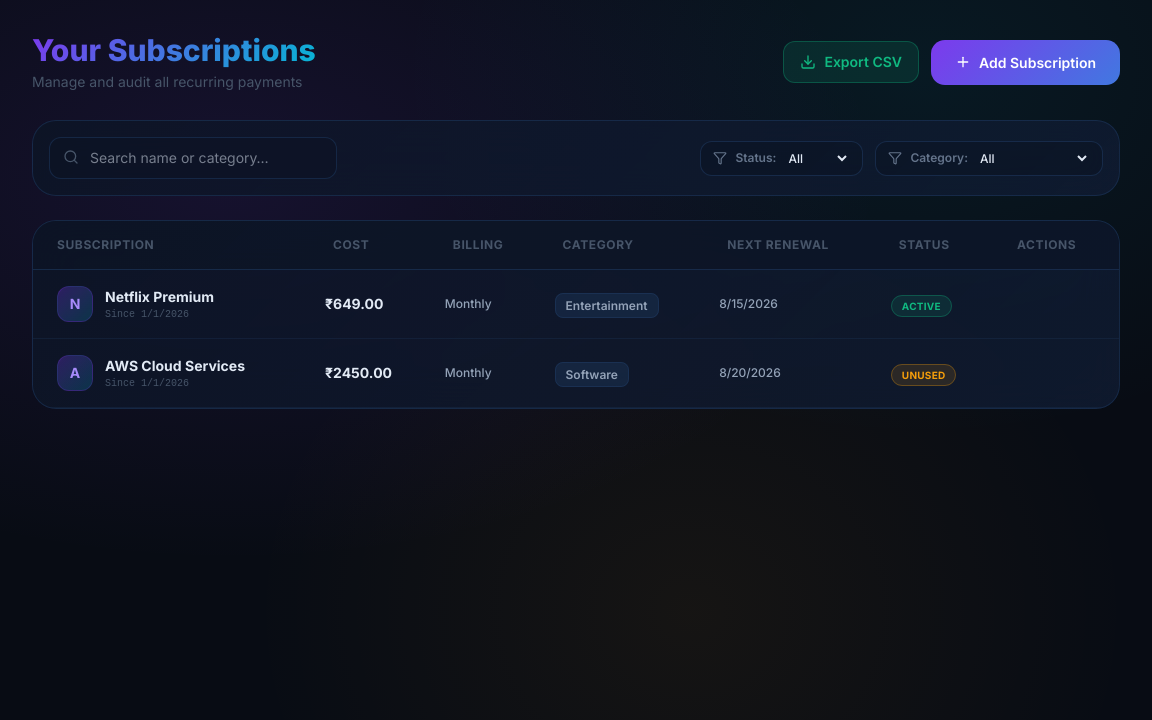
Subscriptions Page › filters subscriptions by status dropdown
Expected: the text "Netflix Premium" is shown, [105,286,214,306]
Step 1. Select "Unused" in the 1st dropdown → (817, 158), box [784,150,850,166]
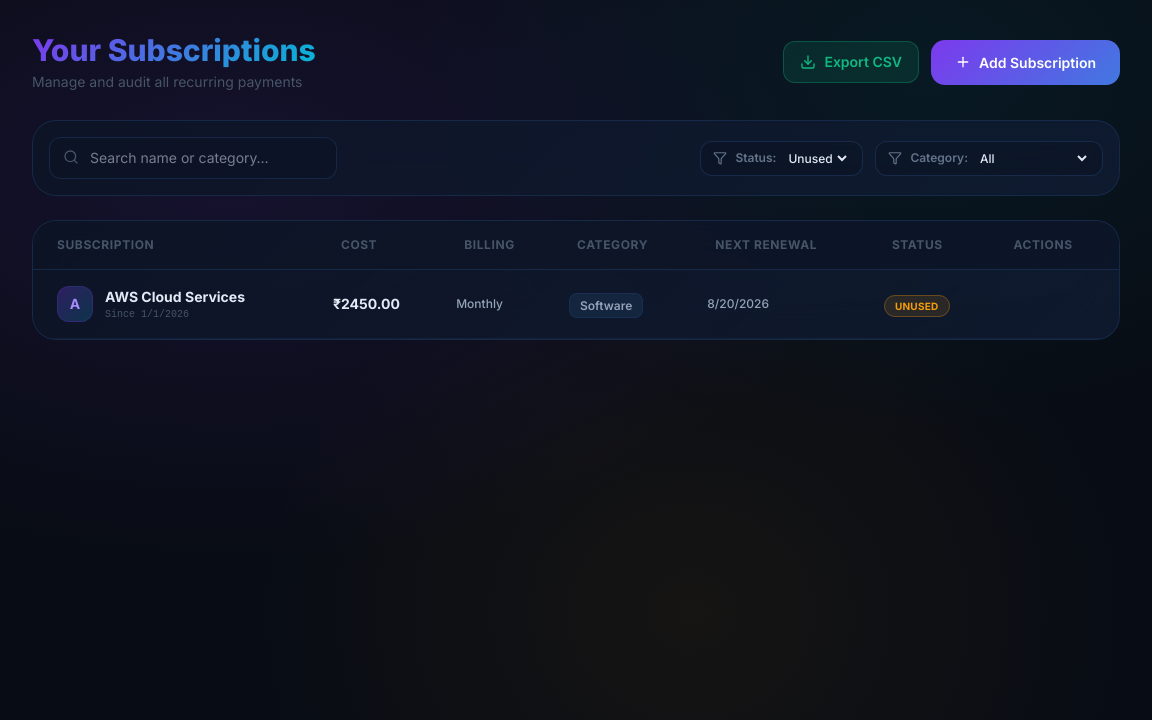
Expected: the text "AWS Cloud Services" is shown, [105,286,245,306]
Now the text "Netflix Premium" is gone
